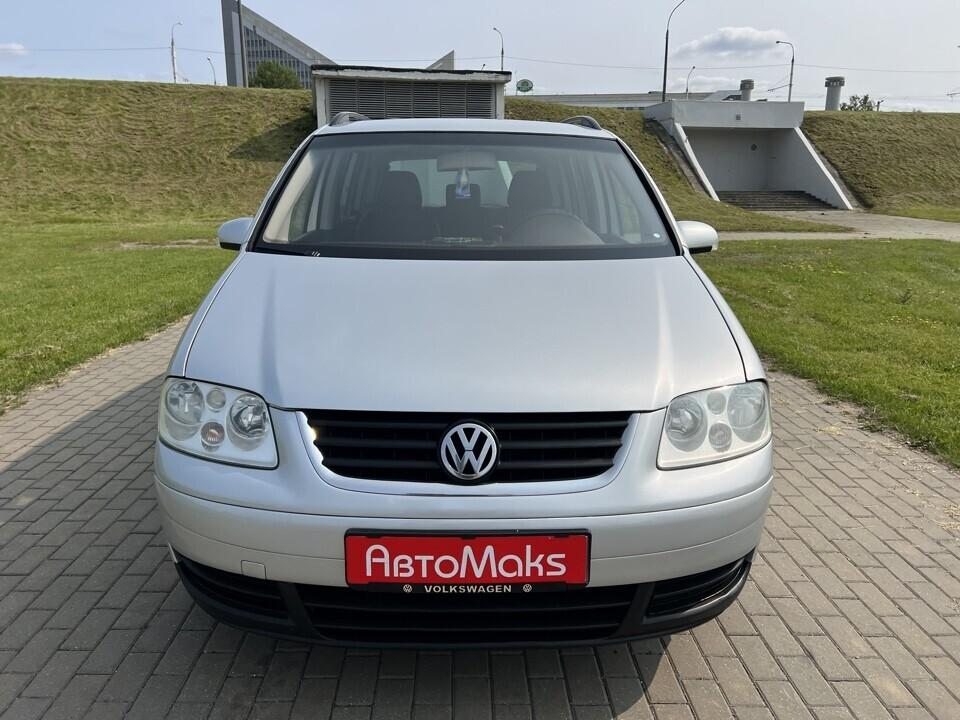Touran_2003-2006: (154, 114, 779, 646)
